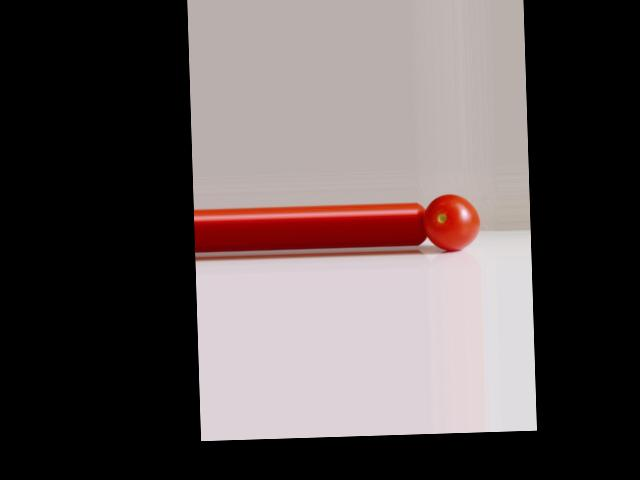tomato: (422, 193, 480, 251)
